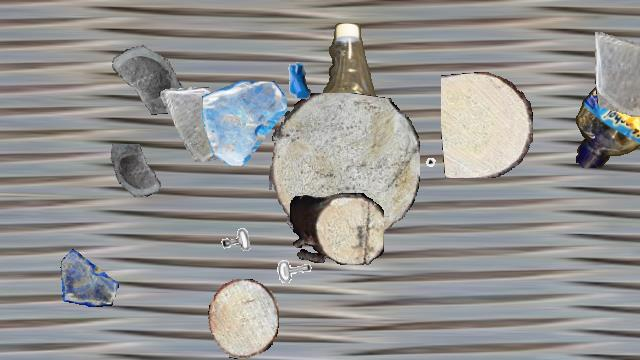glass: (202, 81, 286, 165), (102, 32, 184, 114), (158, 87, 232, 161), (595, 27, 640, 117), (107, 144, 169, 206), (60, 248, 118, 306)
metal: (207, 195, 267, 255), (270, 51, 326, 107), (274, 255, 320, 301), (422, 156, 462, 196)
plastic: (302, 23, 384, 221), (574, 77, 640, 167)
wood: (269, 93, 419, 245), (441, 72, 533, 178), (290, 193, 384, 265), (208, 279, 278, 359)
